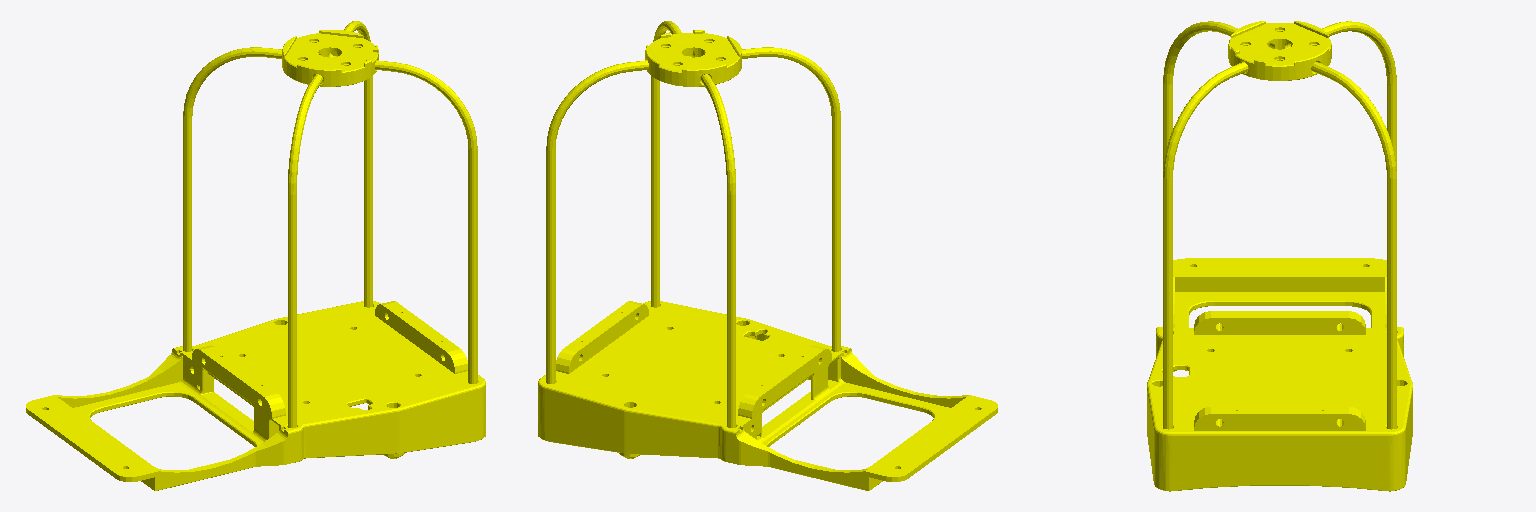
URDF robot description (baseplate_and_cage):
<?xml version="1.0" encoding="utf-8"?>
<!-- This URDF was automatically created by SolidWorks to URDF Exporter! Originally created by Stephen Brawner (brawner@gmail.com) 
     Commit Version: 1.6.0-4-g7f85cfe  Build Version: 1.6.7995.38578
     For more information, please see http://wiki.ros.org/sw_urdf_exporter -->
<robot
  name="baseplate_and_cage">
  <link
    name="baseplate_and_cage">
    <inertial>
      <origin
        xyz="-0.082303 0.0003926 0.091293"
        rpy="0 0 0" />
      <mass
        value="0.37413" />
      <inertia
        ixx="0.0010776"
        ixy="8.4399E-06"
        ixz="2.5442E-05"
        iyy="0.0010403"
        iyz="-1.3989E-07"
        izz="0.0011495" />
    </inertial>
    <visual>
      <origin
        xyz="0 0 0"
        rpy="0 0 0" />
      <geometry>
        <mesh
          filename="package://baseplate_and_cage/meshes/baseplate_and_cage.STL" />
      </geometry>
      <material
        name="">
        <color
          rgba="1 1 0 1" />
      </material>
    </visual>
    <collision>
      <origin
        xyz="0 0 0"
        rpy="0 0 0" />
      <geometry>
        <mesh
          filename="package://baseplate_and_cage/meshes/baseplate_and_cage.STL" />
      </geometry>
    </collision>
  </link>
</robot>

--- Render facts (derived) ---
Views: 3 orthographic renders of the robot side by side, from view 1: azimuth 30°, elevation 25°; view 2: azimuth 150°, elevation 25°; view 3: azimuth 270°, elevation 25°.
Robot: baseplate_and_cage — 1 links, 0 joints (none); root link baseplate_and_cage; default pose: every joint at zero.
Visible links, largest first — view 1: baseplate_and_cage; view 2: baseplate_and_cage; view 3: baseplate_and_cage.
Boxes of the visible links, x1,y1,x2,y2 form: baseplate_and_cage: (26,21,485,490); baseplate_and_cage: (538,21,997,490); baseplate_and_cage: (1147,21,1412,491).
Size in the robot's own frame: 0.2598 by 0.155 by 0.2545 metres.
Meshes: 1 distinct files referenced, 1 mesh visuals loaded (1 binary STL).
